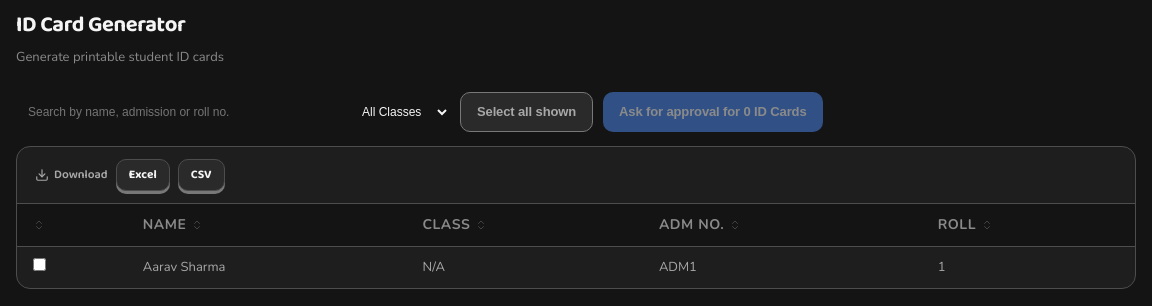
Test: the admin office is offered "ask for approval", not a download that will be refused
expect the text "Aarav Sharma" is shown: met, box [127,247,406,288]
Click the button "Select all shown" at (527, 112), box [460,92,593,132]
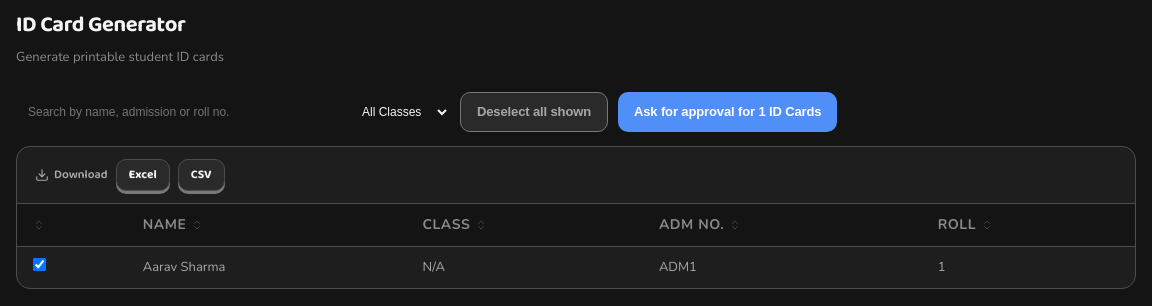
expect the button "Ask for approval for 1 ID Cards" is shown: met, box [618,92,837,132]
